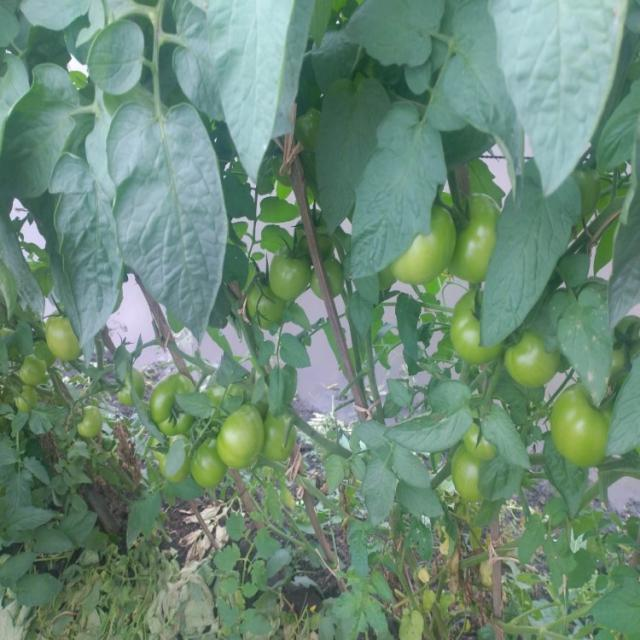tomato: (552, 389, 617, 465), (391, 198, 447, 284), (454, 189, 503, 276), (446, 293, 499, 364), (508, 329, 566, 382), (219, 406, 262, 465), (267, 246, 312, 297), (150, 379, 194, 429), (46, 306, 83, 360), (268, 411, 295, 467), (609, 319, 640, 364), (450, 460, 482, 502), (463, 423, 499, 459), (317, 259, 345, 299), (297, 205, 332, 237), (578, 168, 600, 215), (252, 300, 294, 324), (78, 404, 104, 437), (119, 373, 141, 406), (24, 357, 48, 383), (194, 446, 210, 483), (16, 388, 36, 410)
